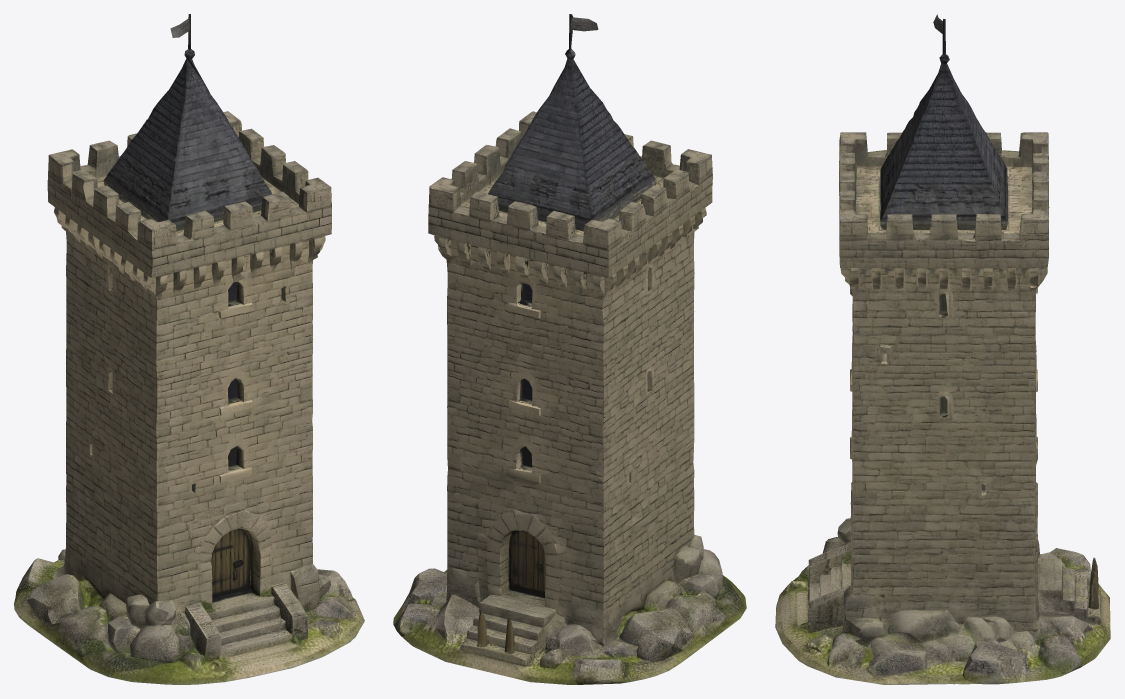
Rendered from fort_m_desert_tower.glb.
The picture shows the model from 3 angles, left to right: view 1: azimuth 30°, elevation 25°; view 2: azimuth 150°, elevation 25°; view 3: azimuth 270°, elevation 25°; orthographic projection.
Visible parts, largest first — view 1: fort_m_desert_tower; view 2: fort_m_desert_tower; view 3: fort_m_desert_tower.
Part boxes in pixels (bbox=[...]): fort_m_desert_tower: bbox=[14, 14, 364, 684]; fort_m_desert_tower: bbox=[393, 14, 746, 684]; fort_m_desert_tower: bbox=[775, 14, 1110, 684].
Size of the model in its own units: 0.905 by 1.9 by 0.9624.
Materials: 1 (1 with a texture image).
